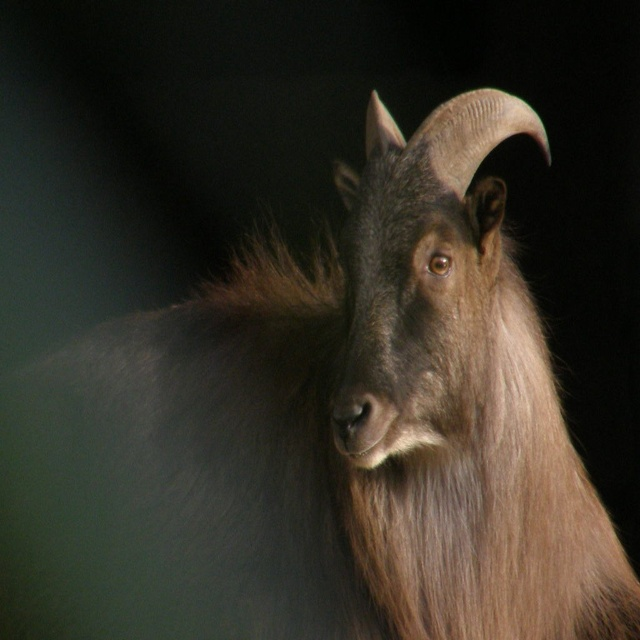Goat: (0, 86, 640, 639)
